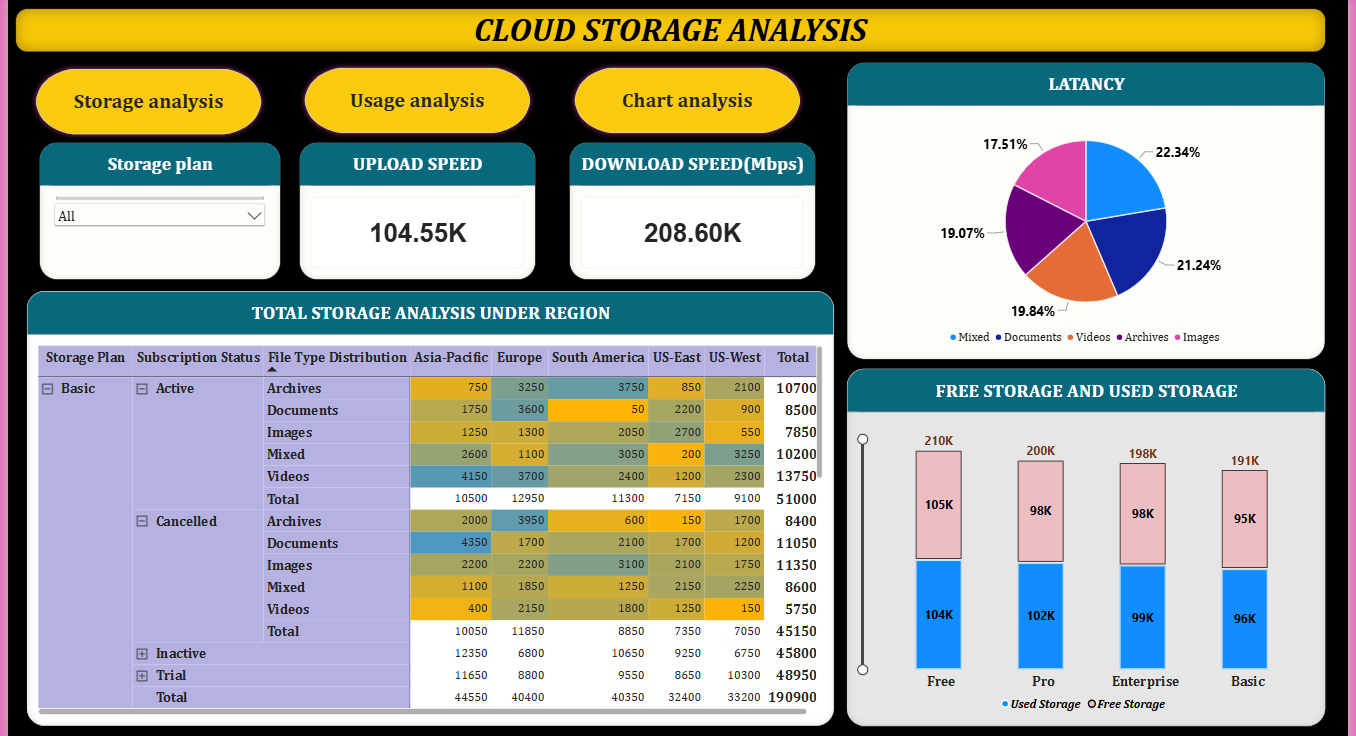

What the dashboard file says about the page in this screenshot:
{"tool":"powerbi","page":{"name":"STORAGE ANALYSIS","canvas":[1940,1080],"ordinal":0},"visuals":[{"type":"textbox","box":[10.9,18.1,1896.5,63.3],"z":0},{"type":"pivotTable","title":"TOTAL STORAGE ANALYSIS UNDER REGION","fields":{"Columns":["DIM-4(REGION DIMENSION).Region"],"Rows":["DIM-1(STORAGE DIMENSION).Storage Plan","DIM-3(SUB DIMENSION).Subscription Status","DIM-2(FILE DIMENSION).File Type Distribution"],"Values":["Sum(FACT_TABLE.Total Storage (GB))"]},"box":[27.1,427.1,1169,629.8],"z":1000},{"type":"columnChart","title":"FREE STORAGE AND USED STORAGE","fields":{"Category":["DIM-1(STORAGE DIMENSION).Storage Plan"],"Y":["Sum(FACT_TABLE.Used Storage (GB))","Sum(FACT_TABLE.Free Storage (GB))"]},"box":[1214.3,539.3,693.1,517.6],"z":2000},{"type":"slicer","title":"Storage plan","fields":{"Values":["DIM-1(STORAGE DIMENSION).Storage Plan"]},"box":[45.2,211.7,349.3,199.1],"z":3000},{"type":"pieChart","title":"LATANCY","fields":{"Category":["DIM-2(FILE DIMENSION).File Type Distribution"],"Y":["Sum(FACT_TABLE.Latency (ms))"]},"box":[1214.3,95.9,693.1,430.7],"z":4000},{"type":"actionButton","title":"usage analysis","box":[32.6,97.7,342,110.4],"z":5000},{"type":"actionButton","title":"usage analysis","box":[421.7,95.9,342,110.4],"z":6000},{"type":"actionButton","title":"usage analysis","box":[812.5,95.9,342,110.4],"z":7000},{"type":"cardVisual","title":"DOWNLOAD SPEED(Mbps)","fields":{"Data":["Sum(FACT_TABLE.Download Speed (Mbps))"]},"box":[812.5,211.7,356.5,199.1],"z":8000},{"type":"cardVisual","title":"UPLOAD SPEED","fields":{"Data":["Sum(FACT_TABLE.Upload Speed (Mbps))"]},"box":[421.7,211.7,342,199],"z":9000}]}

Visuals, with their boxes in screenshot pixels (x1, y1, x2, y2), scaled from the page's 1940x1080 canvas onto the 1356x736 screenshot:
textbox: Rect(8, 12, 1333, 55)
"TOTAL STORAGE ANALYSIS UNDER REGION" pivotTable: Rect(19, 291, 836, 720)
"FREE STORAGE AND USED STORAGE" columnChart: Rect(849, 368, 1333, 720)
"Storage plan" slicer: Rect(32, 144, 276, 280)
"LATANCY" pieChart: Rect(849, 65, 1333, 359)
"usage analysis" actionButton: Rect(23, 67, 262, 142)
"usage analysis" actionButton: Rect(295, 65, 534, 141)
"usage analysis" actionButton: Rect(568, 65, 807, 141)
"DOWNLOAD SPEED(Mbps)" cardVisual: Rect(568, 144, 817, 280)
"UPLOAD SPEED" cardVisual: Rect(295, 144, 534, 280)
